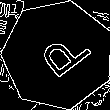P_SW: (26, 25, 89, 85)
